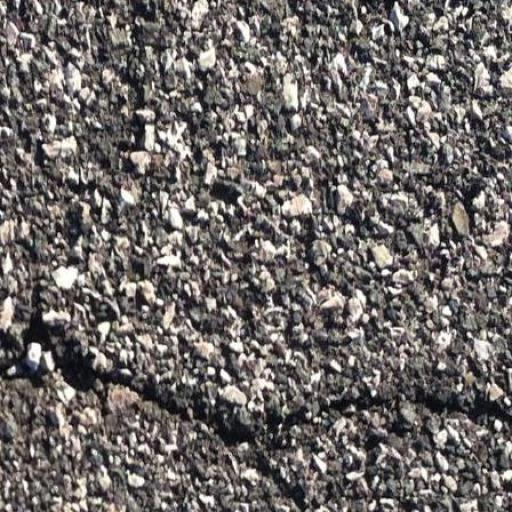spalling: (8, 311, 505, 455)
